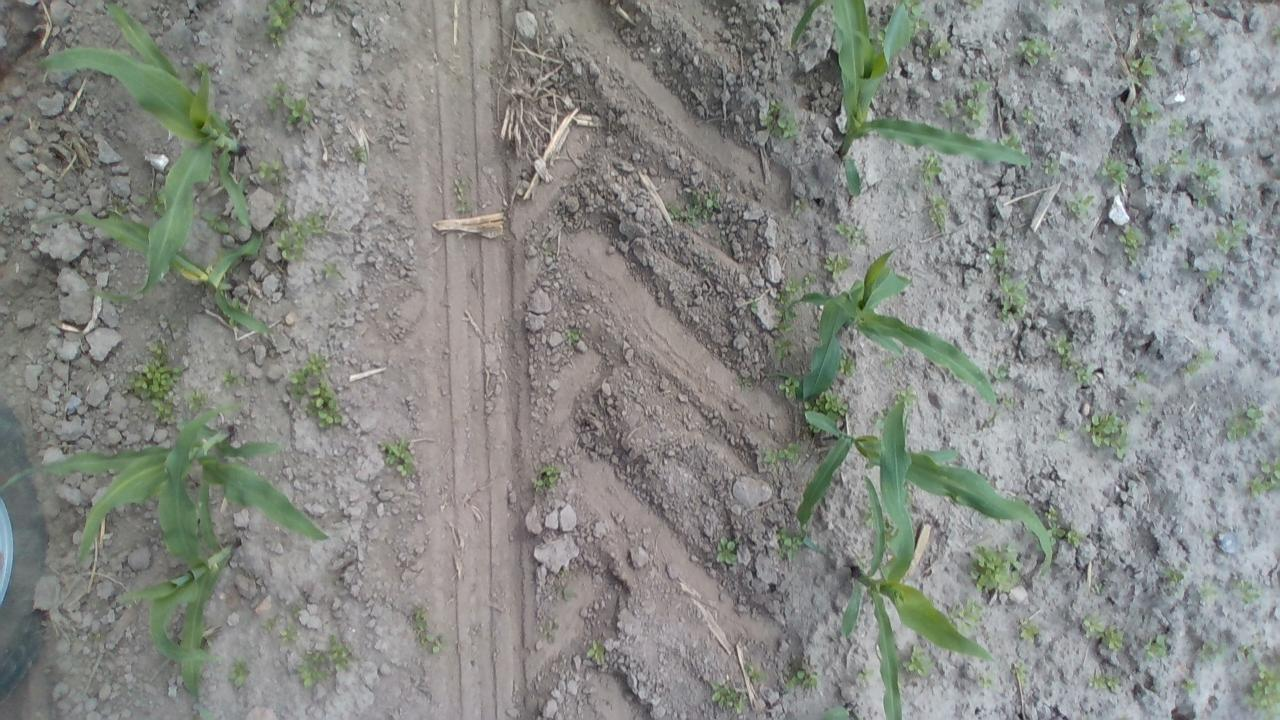Maize: (43, 3, 254, 310), (838, 399, 1004, 720), (4, 410, 332, 568), (788, 0, 1036, 195), (795, 399, 1061, 578), (119, 394, 238, 720), (785, 248, 999, 426), (34, 192, 280, 332), (816, 704, 867, 720)
Weeds: (123, 342, 183, 427), (286, 349, 344, 430), (273, 206, 327, 261), (966, 541, 1020, 593), (1082, 410, 1130, 458), (666, 191, 724, 227), (1246, 662, 1280, 720), (262, 1, 300, 50), (770, 275, 803, 329), (410, 606, 445, 654), (1223, 403, 1266, 442), (994, 274, 1028, 322), (1080, 616, 1126, 651), (759, 99, 798, 140), (1017, 33, 1058, 70), (380, 436, 414, 478), (1192, 163, 1221, 209), (1248, 456, 1280, 496), (297, 651, 332, 687), (1214, 216, 1248, 253), (810, 390, 851, 420), (1059, 357, 1097, 389), (710, 682, 746, 714), (947, 598, 984, 628), (782, 662, 819, 692), (762, 441, 802, 468), (1096, 154, 1130, 185), (200, 206, 232, 238), (326, 636, 356, 670), (1130, 95, 1160, 129), (1154, 146, 1191, 173), (1120, 225, 1148, 259), (1182, 344, 1211, 376), (776, 528, 806, 558), (963, 92, 987, 129), (1064, 192, 1094, 221), (891, 382, 920, 412), (1174, 13, 1202, 44), (904, 643, 931, 675), (254, 158, 286, 184), (535, 616, 562, 646), (918, 154, 944, 185), (266, 82, 291, 114), (824, 252, 852, 280), (1128, 51, 1155, 80), (534, 462, 561, 490), (834, 221, 868, 243), (715, 535, 739, 566), (1050, 332, 1076, 360), (1144, 632, 1168, 662), (926, 194, 948, 226), (1066, 520, 1088, 552), (985, 240, 1012, 266), (1236, 578, 1262, 605), (287, 96, 311, 125), (348, 139, 371, 168), (228, 660, 250, 690), (452, 176, 470, 212), (1146, 13, 1169, 41), (1018, 618, 1042, 644), (776, 373, 800, 398), (140, 183, 160, 212), (1088, 674, 1122, 691), (1160, 566, 1186, 588), (1044, 522, 1066, 548), (821, 702, 856, 718), (1196, 640, 1220, 663), (928, 36, 951, 60), (584, 638, 605, 664), (1012, 658, 1031, 686), (998, 132, 1024, 152), (729, 372, 756, 391), (1196, 578, 1218, 600), (744, 662, 766, 684), (774, 336, 794, 360), (551, 582, 575, 602), (1041, 0, 1067, 17), (910, 15, 931, 36), (881, 350, 902, 371), (220, 367, 240, 389), (1168, 117, 1188, 139), (904, 0, 926, 20), (870, 406, 888, 430), (188, 60, 212, 78), (938, 96, 958, 117), (188, 387, 206, 410), (539, 241, 562, 259), (1041, 156, 1059, 178), (1238, 642, 1256, 664), (840, 355, 858, 377), (988, 365, 1010, 383), (280, 624, 299, 644), (790, 196, 810, 215), (976, 668, 994, 689), (960, 0, 987, 14), (886, 519, 898, 550), (1204, 266, 1224, 284), (1164, 222, 1182, 242), (1267, 19, 1280, 46), (290, 596, 304, 621), (1166, 0, 1188, 15), (858, 664, 876, 682), (564, 326, 582, 344), (322, 262, 340, 280), (1138, 396, 1155, 415), (999, 392, 1015, 412), (261, 614, 278, 632), (748, 295, 761, 318), (1043, 505, 1060, 522), (1180, 677, 1198, 693), (1088, 581, 1106, 597), (802, 270, 818, 288), (1054, 424, 1069, 443), (862, 504, 874, 527), (1021, 109, 1038, 125), (878, 23, 888, 50), (1132, 370, 1148, 386)
